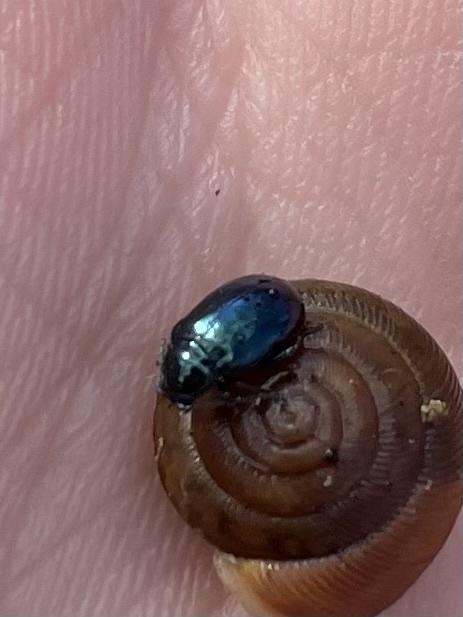flea_beetle: (120, 225, 360, 442)
